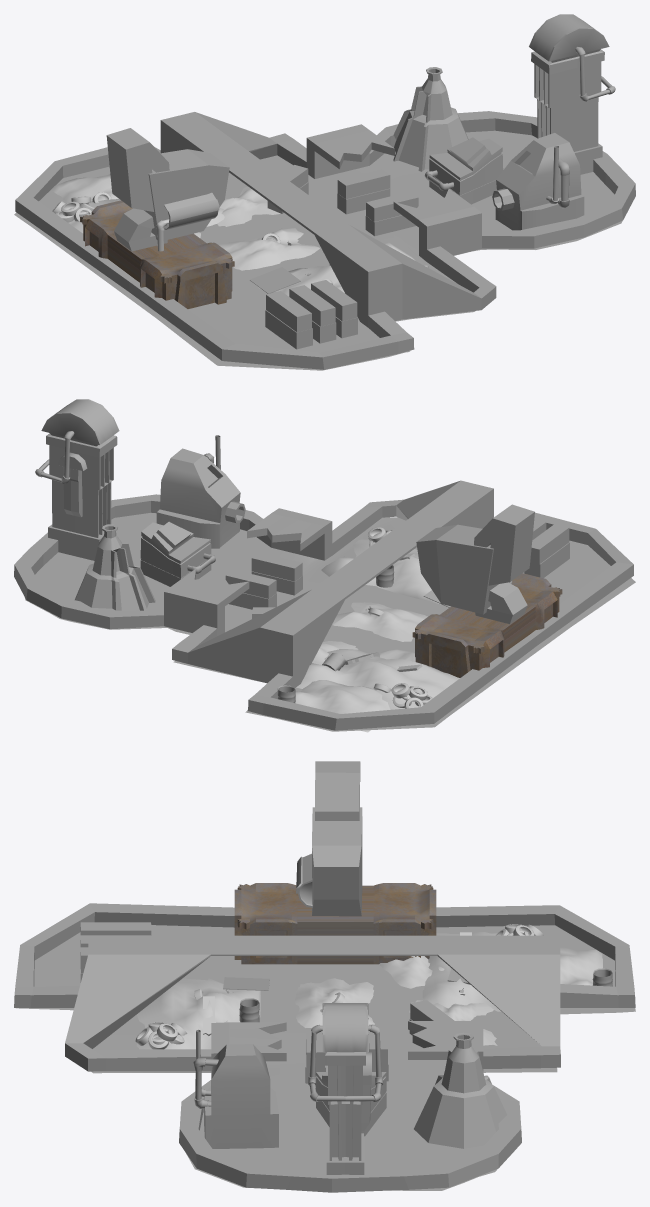
File: New_Map_June7_2017.fbx
3 views of the same model, one above another, from view 1: azimuth 30°, elevation 25°; view 2: azimuth 150°, elevation 25°; view 3: azimuth 270°, elevation 25° (orthographic). The views are drawn at different scales.
Parts seen in each view (by area): view 1: polySurface509; view 2: polySurface509; view 3: polySurface509.
Boxes of the visible parts, left/top/right/bottom form: polySurface509: left=14, top=14, right=635, bottom=370; polySurface509: left=14, top=399, right=635, bottom=732; polySurface509: left=14, top=761, right=635, bottom=1192.
Bounding box in the file's own units: 9561 × 2825 × 9107.
